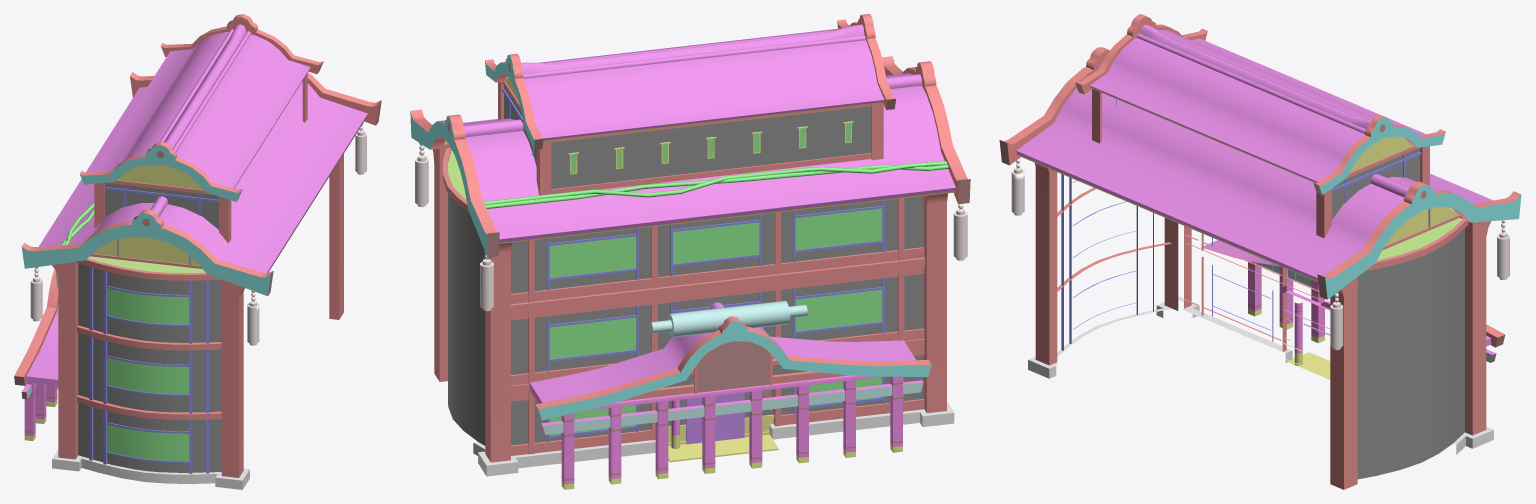
Rendered from SM_ENV_LKNVLD_VRArena_Structure_B_Lod1.gltf.
The picture shows the model from 3 angles, left to right: view 1: azimuth 30°, elevation 25°; view 2: azimuth 150°, elevation 25°; view 3: azimuth 270°, elevation 25°; orthographic projection. The views are drawn at different scales.
Parts seen in each view (by area): view 1: SM_ENV_LKNVLD_VRArena_Structure_B_Lod1; view 2: SM_ENV_LKNVLD_VRArena_Structure_B_Lod1; view 3: SM_ENV_LKNVLD_VRArena_Structure_B_Lod1.
Part boxes in pixels (<box>): SM_ENV_LKNVLD_VRArena_Structure_B_Lod1: <box>14,14,381,489</box>; SM_ENV_LKNVLD_VRArena_Structure_B_Lod1: <box>410,14,970,489</box>; SM_ENV_LKNVLD_VRArena_Structure_B_Lod1: <box>999,14,1521,489</box>.
Size of the model in its own units: 37.86 by 27.12 by 37.86.
